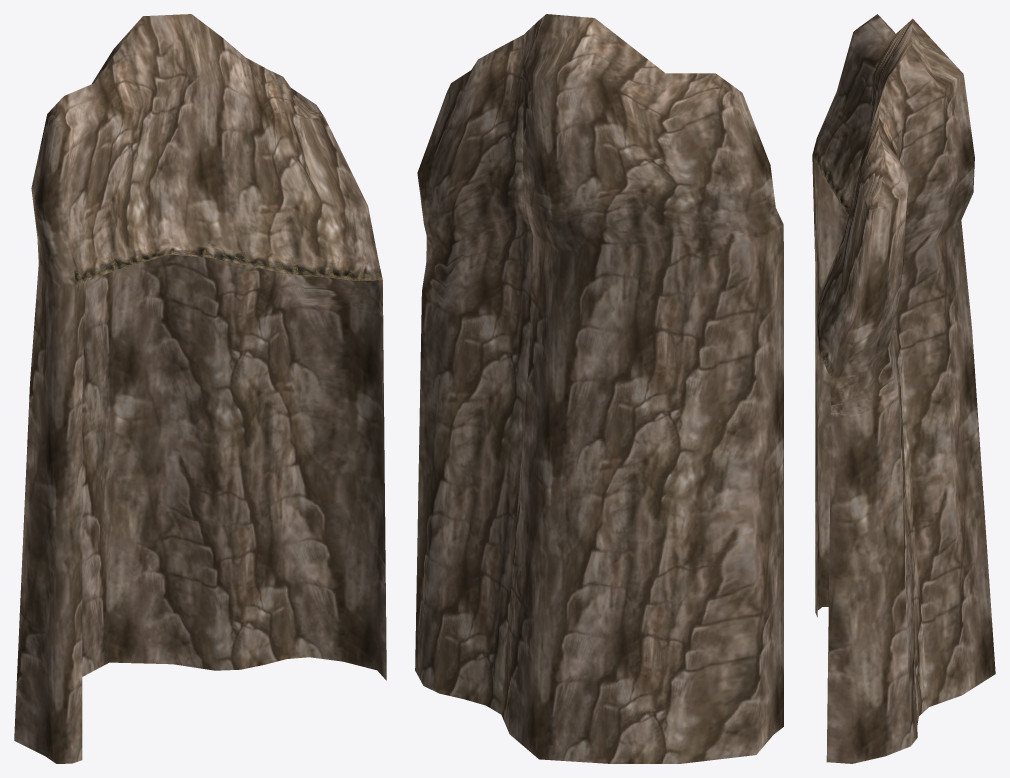
The model's file is OVERHILL_A_01_LINE83.fbx.
The picture shows the model from 3 angles, left to right: view 1: azimuth 30°, elevation 25°; view 2: azimuth 150°, elevation 25°; view 3: azimuth 270°, elevation 25°; orthographic projection. The views are drawn at different scales.
Parts seen in each view (by area): view 1: OVERHILL_A_01_LINE83; view 2: OVERHILL_A_01_LINE83; view 3: OVERHILL_A_01_LINE83.
Boxes of the visible parts, x1,y1,x2,y2 form: OVERHILL_A_01_LINE83: (14, 14, 386, 763); OVERHILL_A_01_LINE83: (415, 14, 783, 763); OVERHILL_A_01_LINE83: (812, 14, 995, 763).
Bounding box in the file's own units: 199743 × 377159 × 96302.
Materials: 2 (2 with a texture image).
